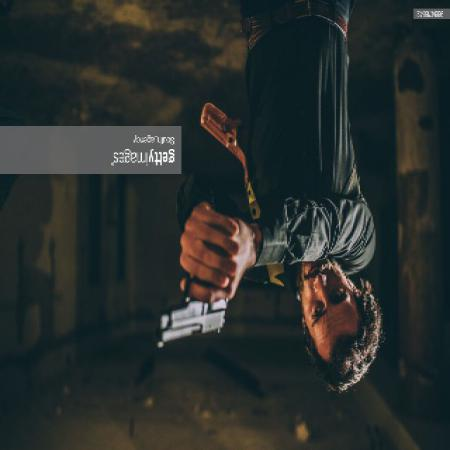Pistol: (153, 296, 229, 348)
